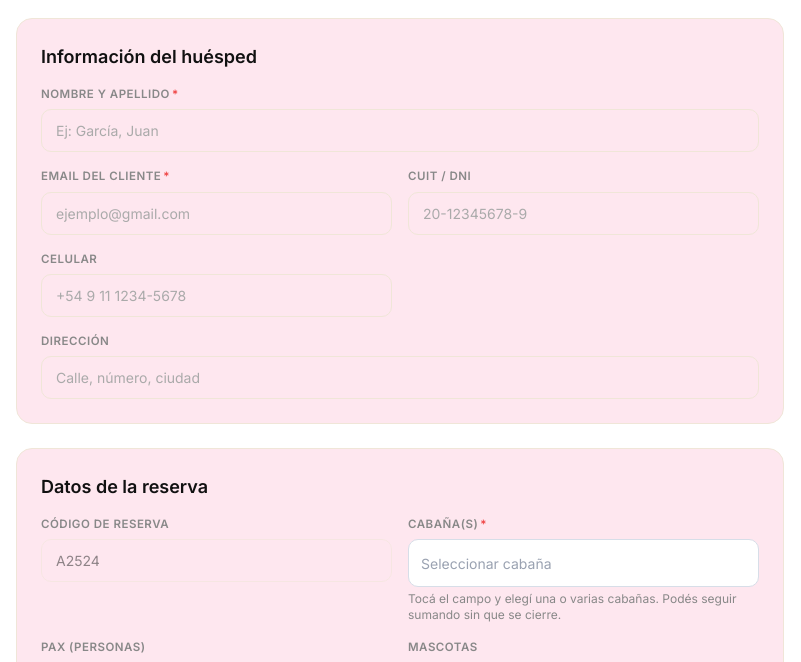
ReservaForm.jsx — "Aplicar descuento" no pisa un monto_total tipeado a mano (bug real) › el precio sugerido auto-calcula a $10.000 (confirma que precioBaseNeto SÍ se resolvió, precondición del bug)
Expected: the button with test id "cabana-picker-trigger" is shown, [408,539,759,587]
Type "Huésped Precio Manual" into the field with test id "input-nombre-apellido" at (400,131), box [41,109,759,152]
Type "preciomanual@example.com" into the field with test id "input-email" at (216,213), box [41,192,392,234]
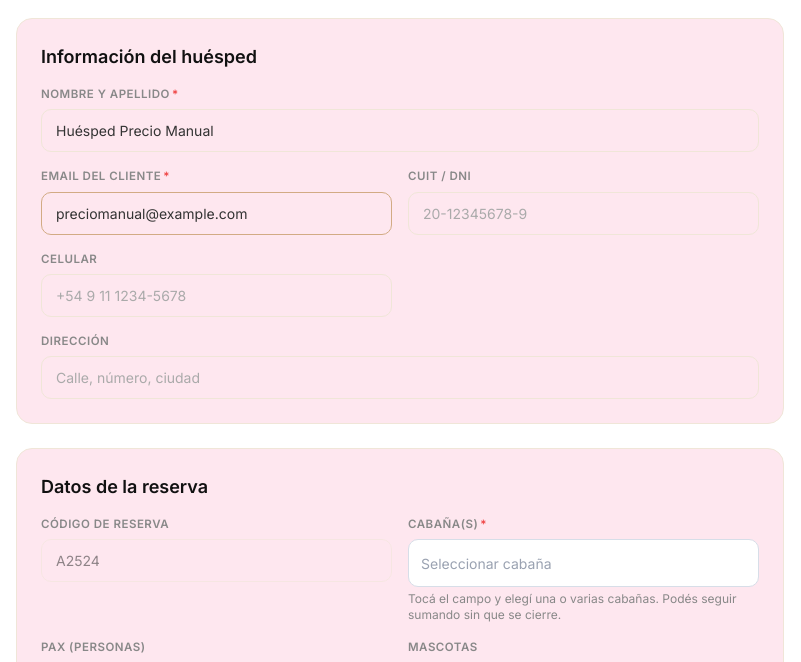
Click the button with test id "cabana-picker-trigger" at (486,563), box [408,539,759,587]
(page scrolled)
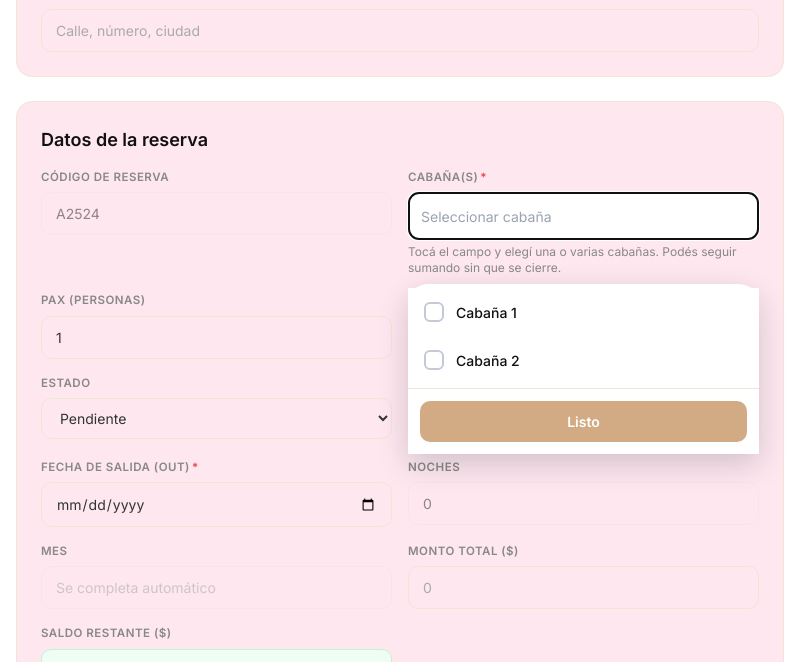
Click the button with test id "cabana-picker-row-Cabaña 1" at (486,312), box [408,288,759,336]
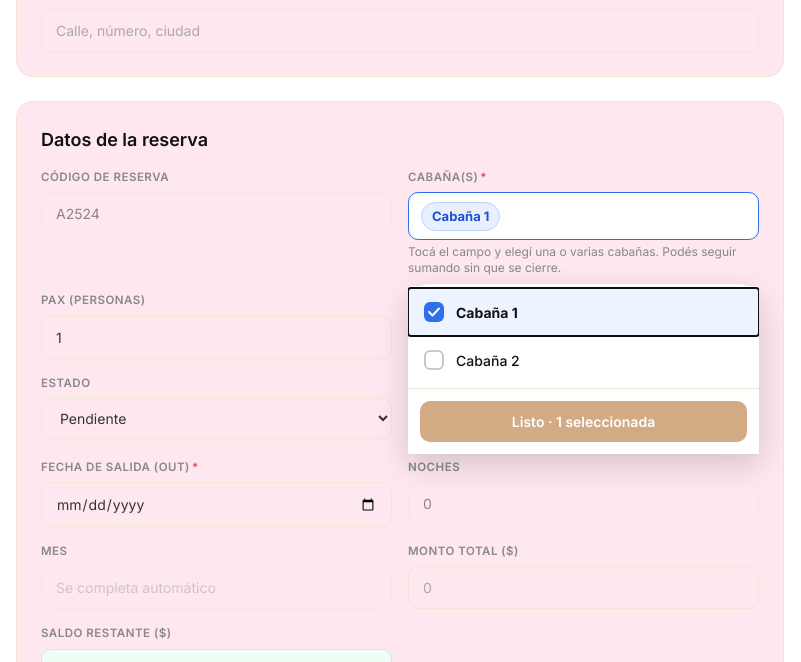
Click the button with test id "cabana-picker-listo" at (584,422), box [420,401,747,442]
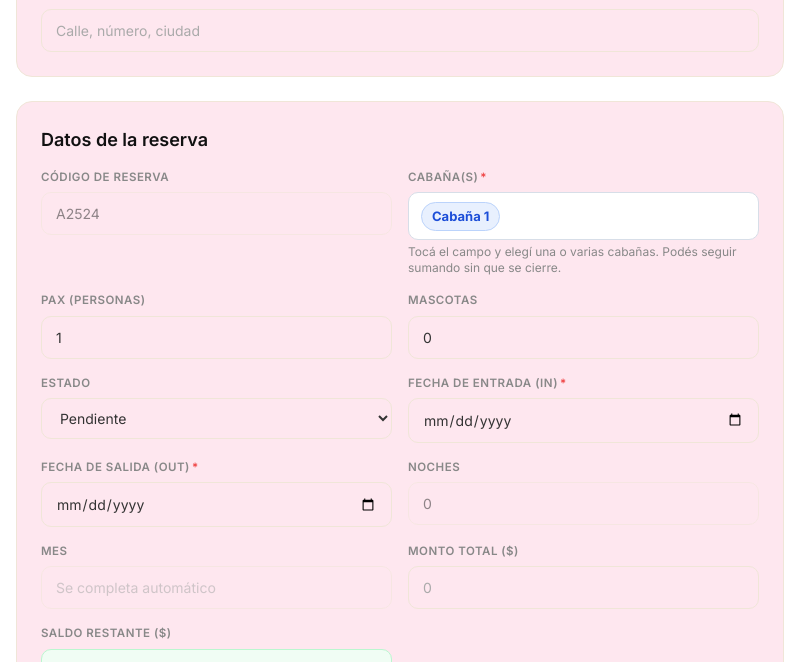
Type "2026-06-01" into the date field with test id "input-fecha-entrada" at (584,420), box [408,398,759,443]
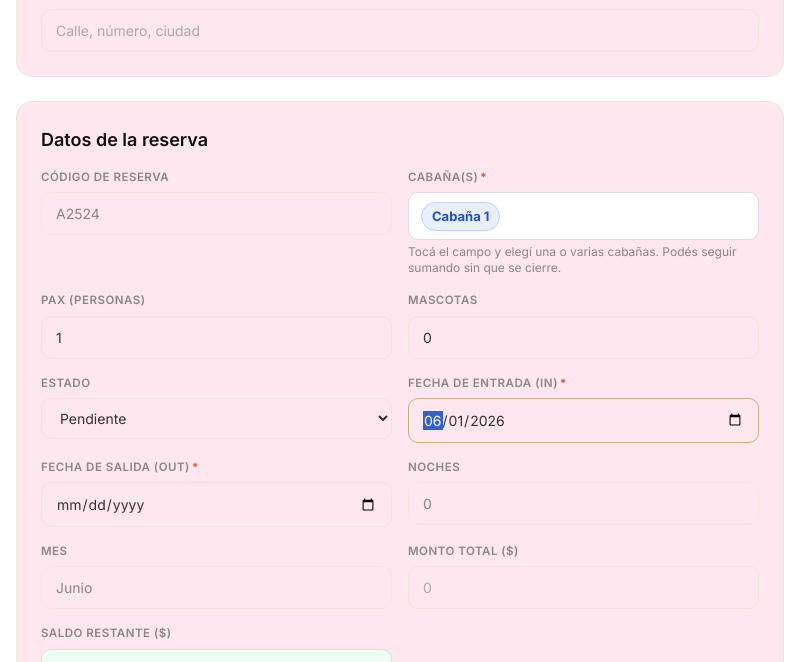
Type "2026-06-03" into the date field with test id "input-fecha-salida" at (216,505), box [41,482,392,527]
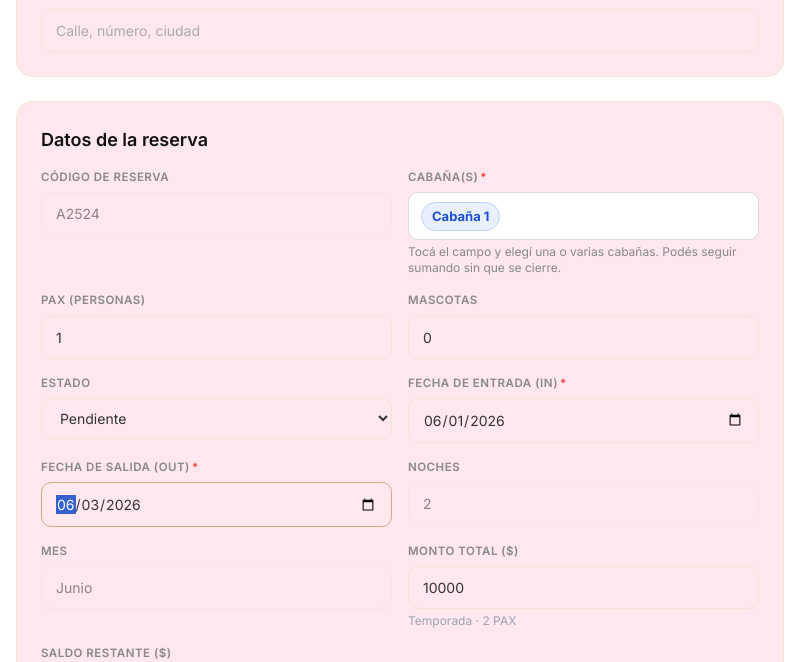
Result: the number field with test id "input-monto-total" holds "10000" at [408,566,759,609]
